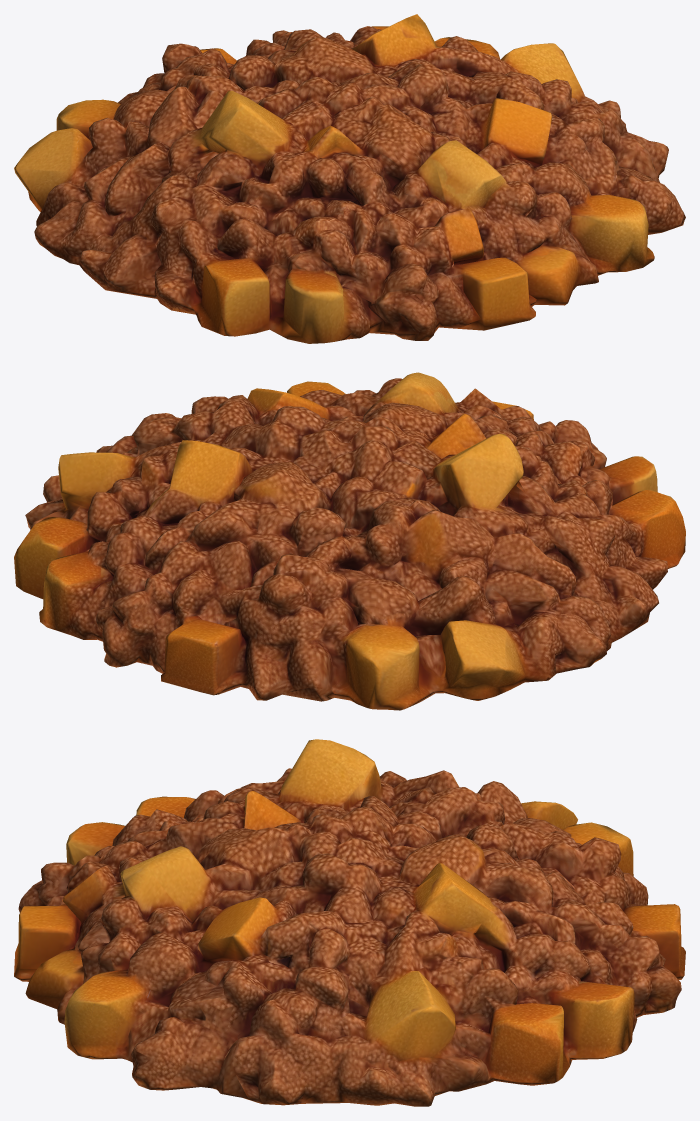
The model's file is Meshy_AI_Picadillo_de_res_20261118_texture.fbx.
3 views of the same model, one above another, from view 1: azimuth 30°, elevation 25°; view 2: azimuth 150°, elevation 25°; view 3: azimuth 270°, elevation 25° (orthographic). The views are drawn at different scales.
Parts seen in each view (by area): view 1: Mesh_0; view 2: Mesh_0; view 3: Mesh_0.
Part boxes in pixels (box(x1,y1,x2,y2)): Mesh_0: box(14, 14, 685, 343); Mesh_0: box(14, 372, 685, 710); Mesh_0: box(14, 739, 685, 1106).
Bounding box in the file's own units: 190 × 49.03 × 185.
1 material, 1 textured.
